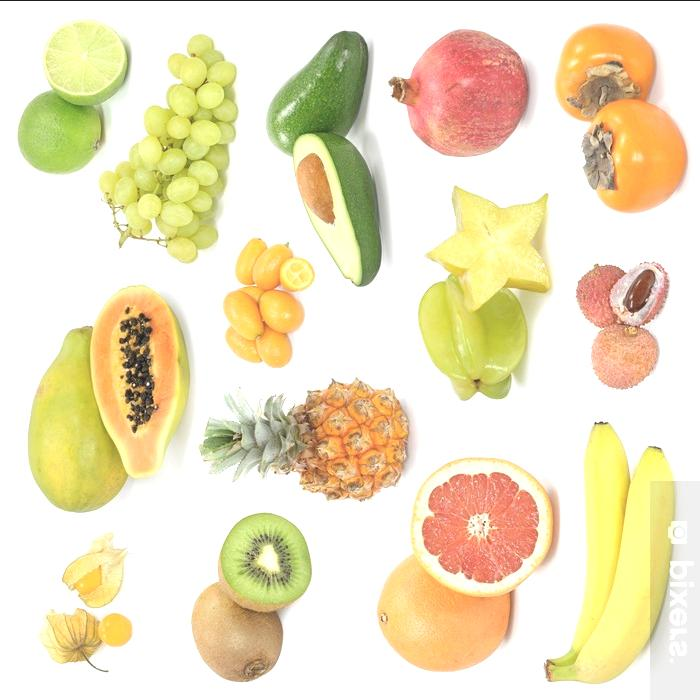chuoi: (557, 414, 673, 688)
